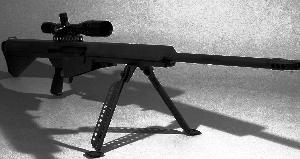sniper: (5, 10, 297, 157)
